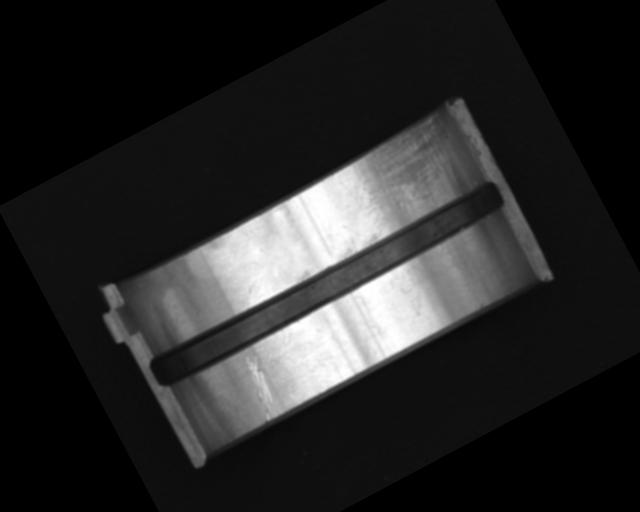gap: (144, 175, 508, 391)
nick: (234, 351, 287, 423)
scratch: (326, 108, 479, 246)
